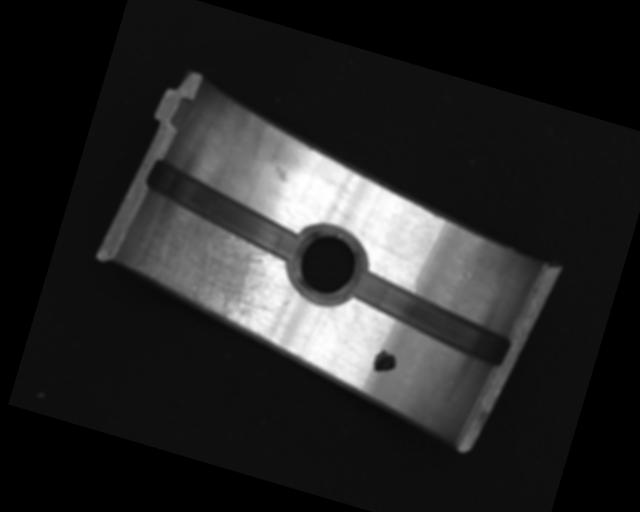blot: (370, 347, 399, 377)
bruise: (271, 163, 292, 184)
gap: (134, 155, 319, 265), (344, 268, 521, 369)
hole: (285, 220, 370, 309)
nick: (394, 229, 432, 294), (322, 304, 347, 340)
scratch: (110, 193, 297, 345)
